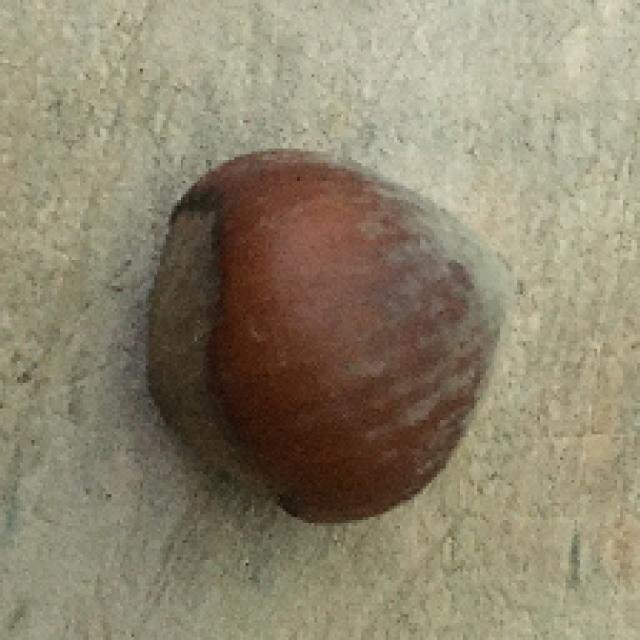qualityHazelnut: (150, 148, 499, 529)
